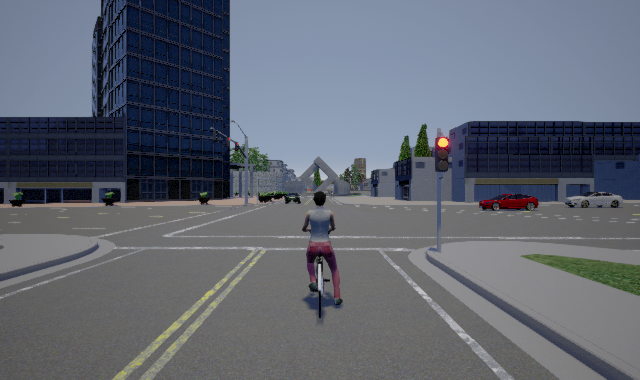bike: (303, 190, 343, 318)
traffic_light: (435, 131, 449, 179), (214, 130, 219, 141), (226, 137, 231, 147), (235, 142, 239, 151)
vehicle: (479, 194, 539, 211), (564, 192, 623, 208), (282, 189, 303, 207)
